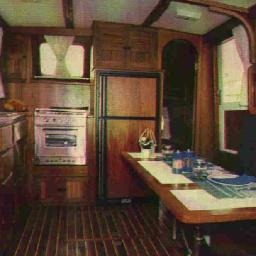Electrodomestico: (97, 73, 157, 203), (36, 107, 88, 164)
